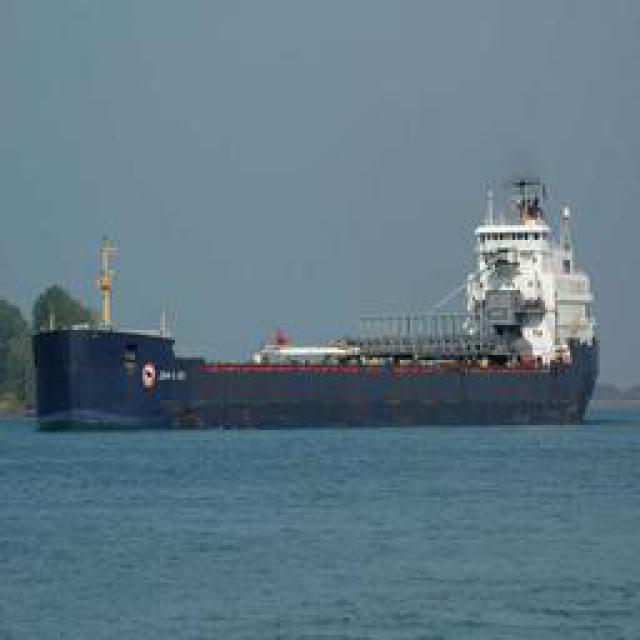Ship: (216, 176, 594, 406)
